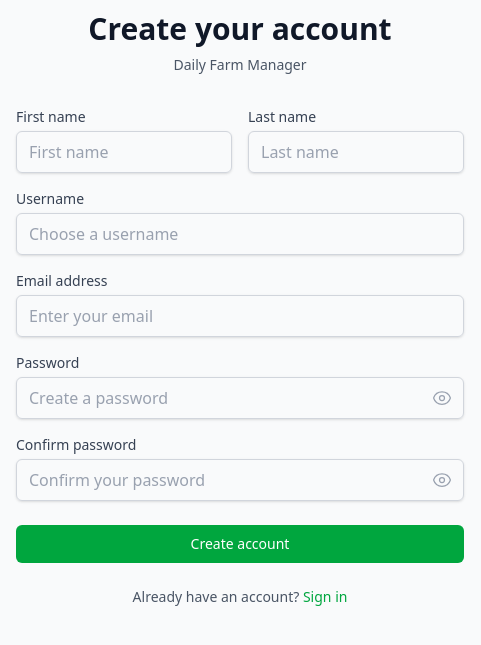
Registration Flow › should show error for weak password
Type "Weak" into the field named "firstName". click: (124, 152)
box: [16, 131, 232, 173]
Type "User" into the field named "lastName". click: (356, 152)
box: [248, 131, 464, 173]
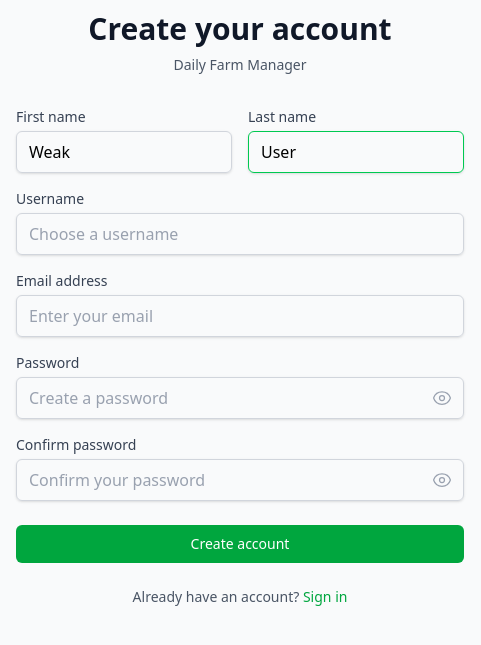
Type "weakuser" into the field named "username". click: (240, 234)
box: [16, 213, 464, 255]
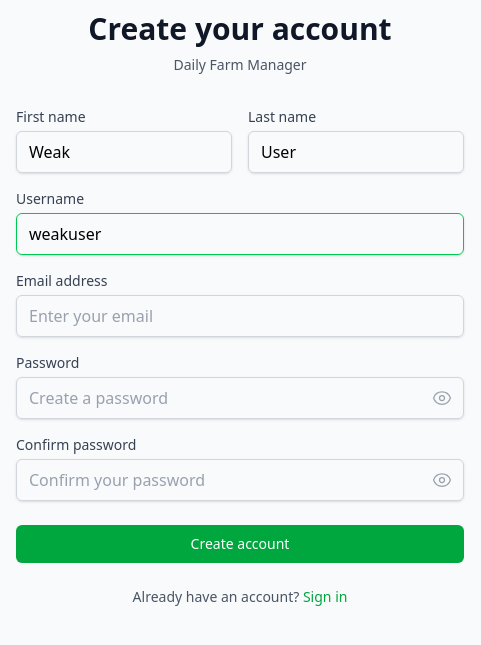
Type "weak@example.com" into the field named "email". click: (240, 316)
box: [16, 295, 464, 337]
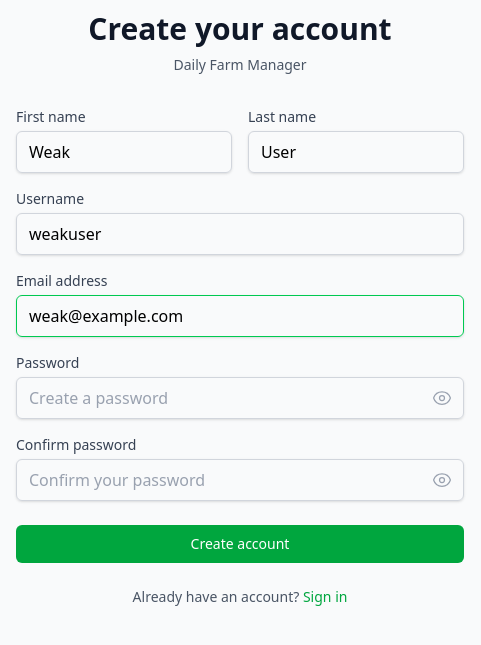
Type "weak" into the password field named "password". click: (240, 398)
box: [16, 377, 464, 419]
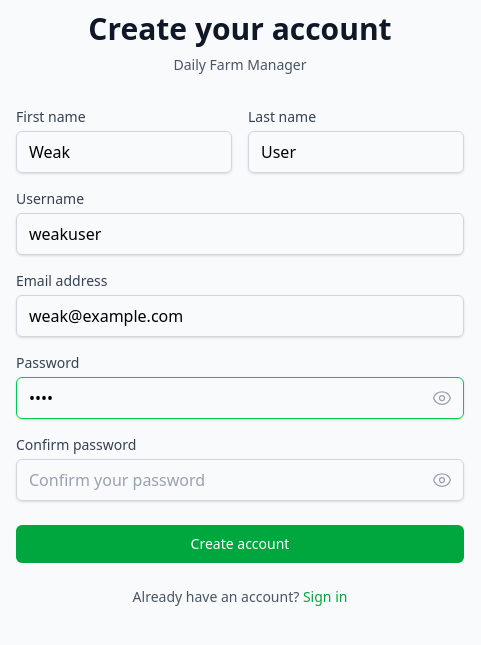
Type "weak" into the password field named "confirmPassword". click: (240, 480)
box: [16, 459, 464, 501]
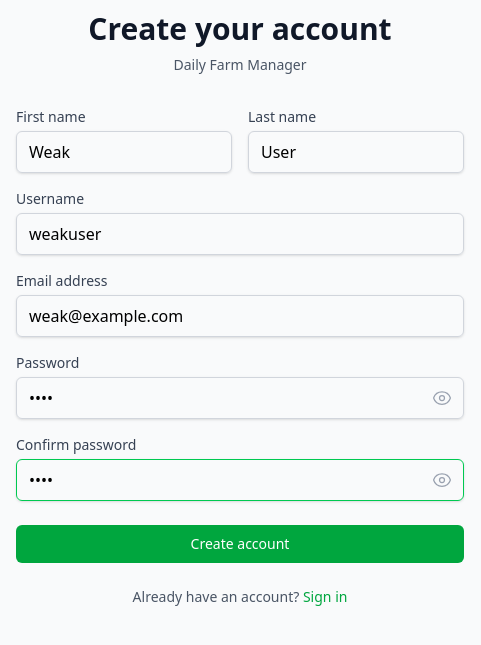
Click the submit button. click: click(240, 544)
box: [16, 525, 464, 563]
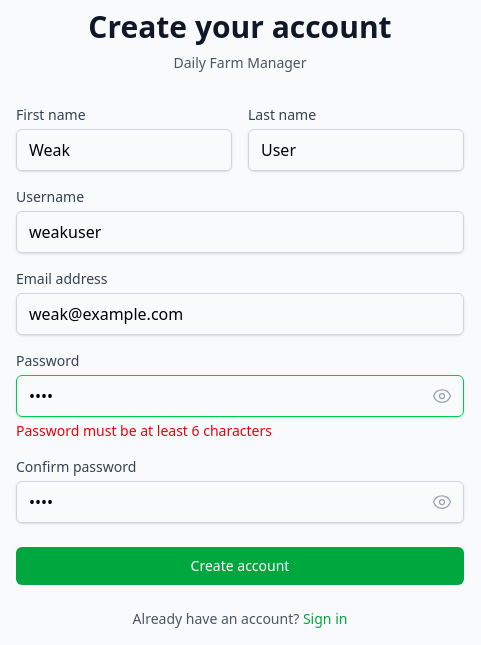
Check: the text "Password must be at least 6 characters" is shown, box [16, 421, 272, 440]
